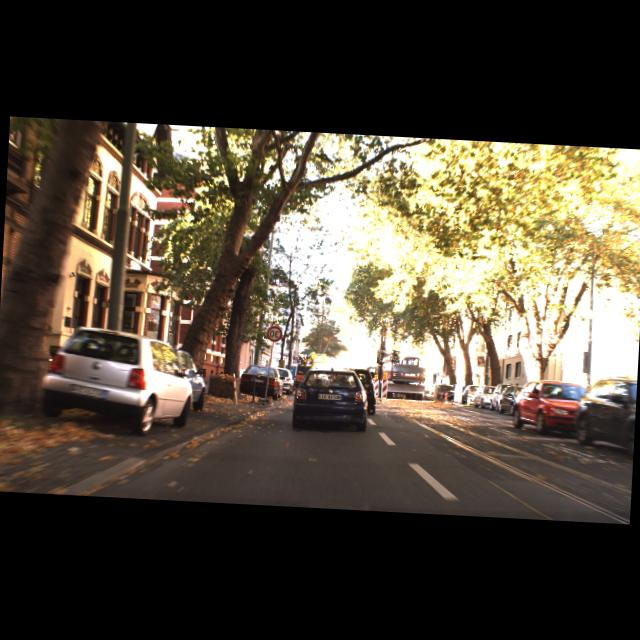prohibitory: (267, 324, 284, 341)
